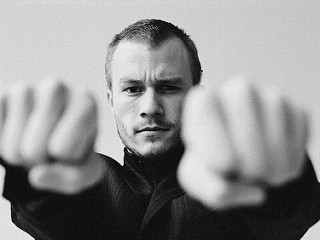fist: (186, 78, 299, 205), (3, 81, 105, 190)
